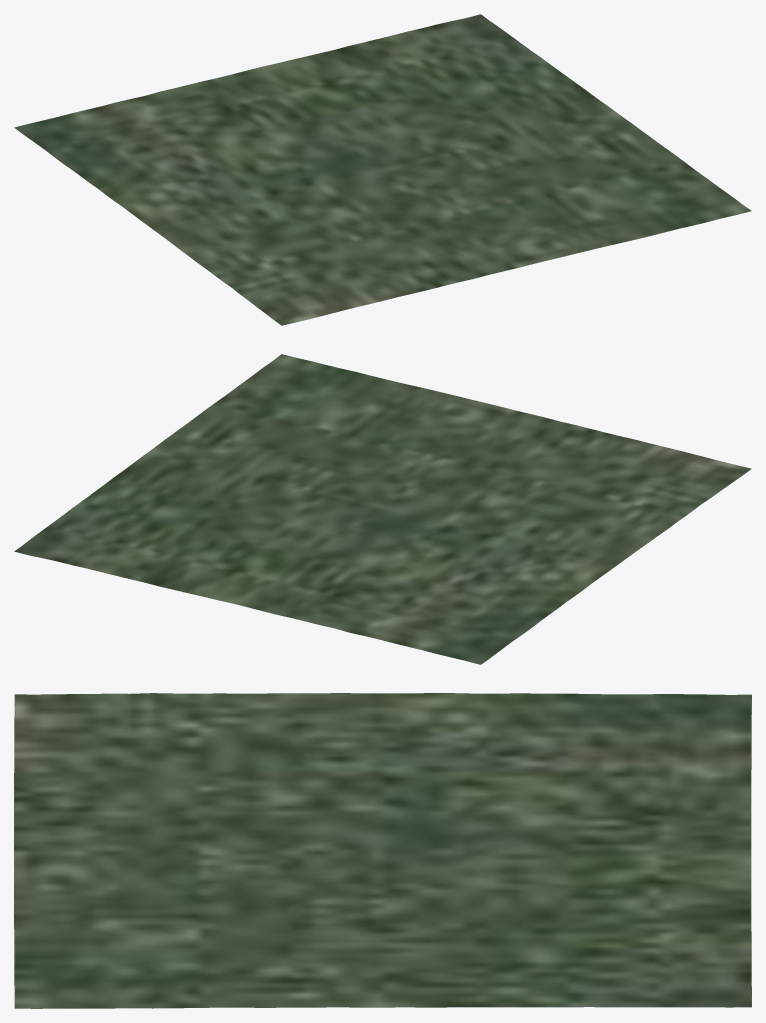
3 views of the same model, one above another, from view 1: azimuth 30°, elevation 25°; view 2: azimuth 150°, elevation 25°; view 3: azimuth 270°, elevation 25° (orthographic). The views are drawn at different scales.
Size of the model in its own units: 62915 by 298 by 62474.
1 material, 1 textured.
